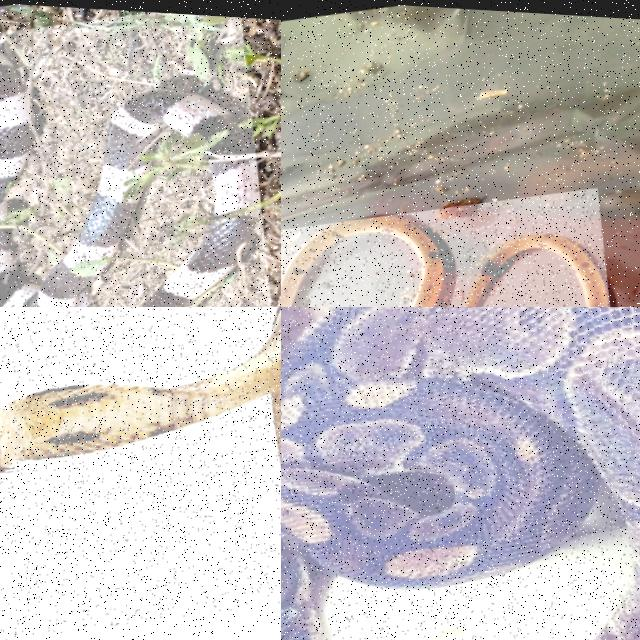Bungarus candidus: (0, 89, 259, 306)
Calliophis maculiceps: (281, 218, 445, 306)
Naja kaouthia: (0, 308, 280, 477)
Python bivittatus: (281, 307, 639, 639)
